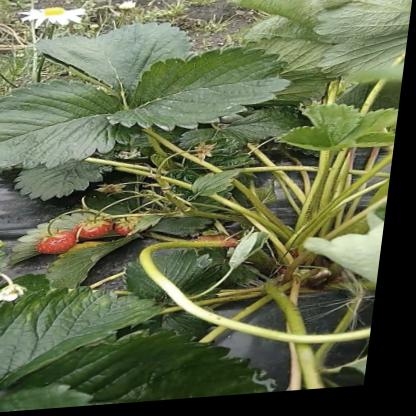ripe: (41, 231, 82, 258), (82, 221, 119, 242), (119, 218, 151, 240)
